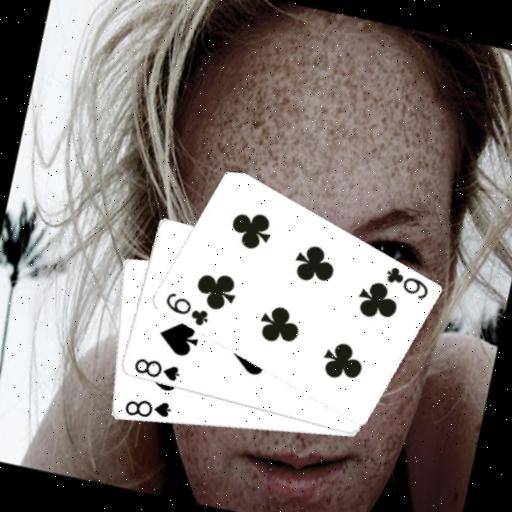6C: (157, 288, 213, 330), (378, 262, 433, 302)
8S: (120, 391, 174, 425), (129, 353, 183, 385)
